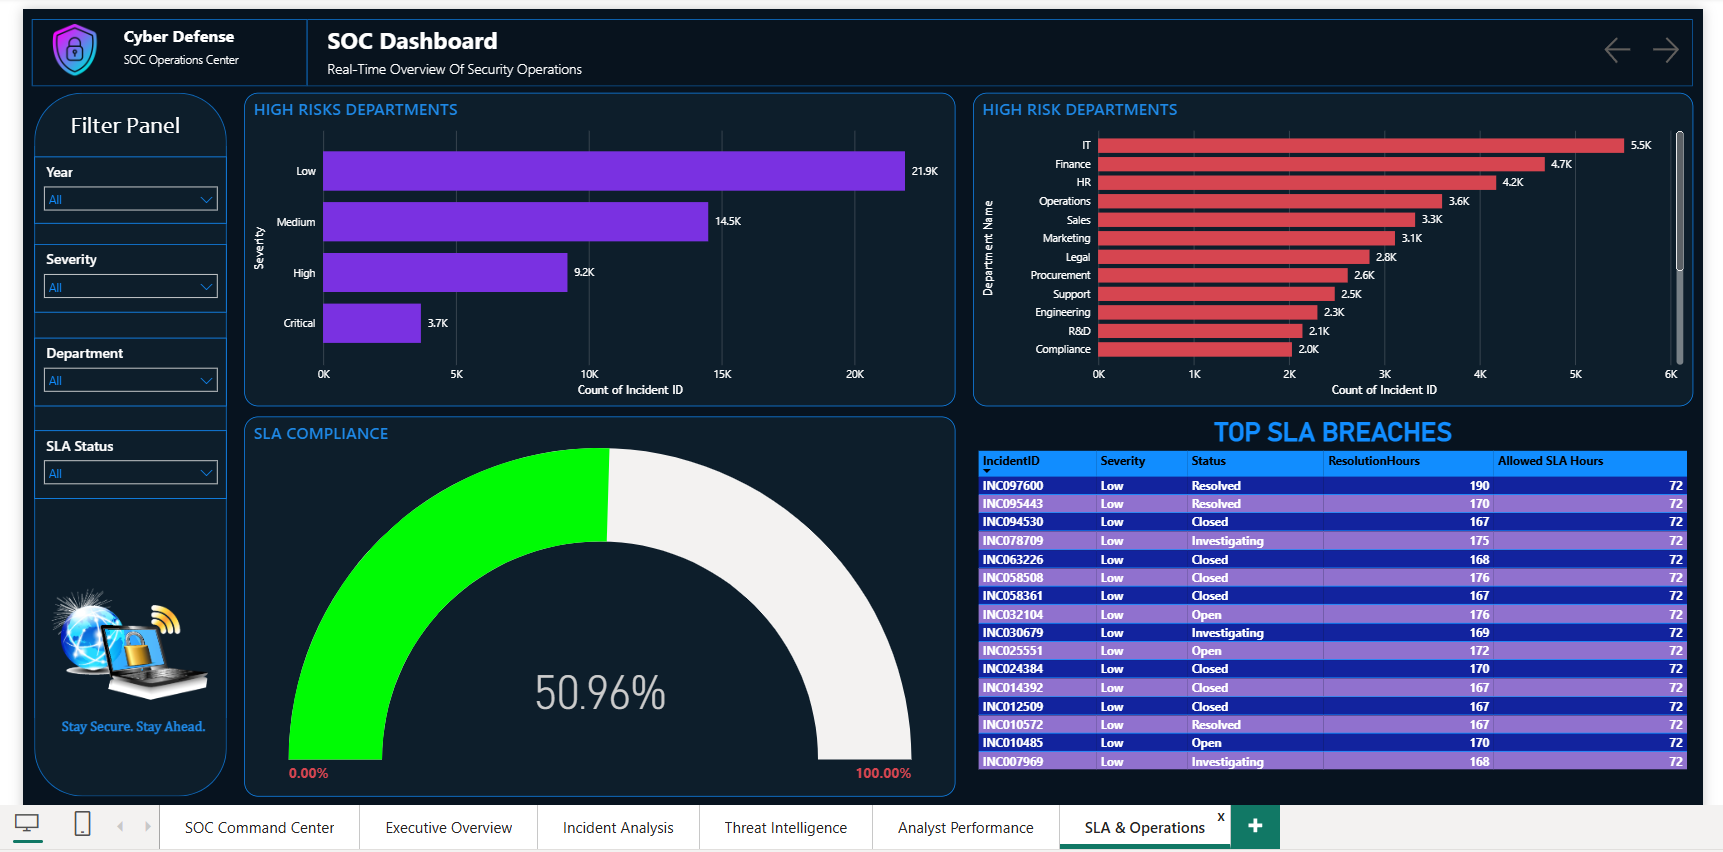

Layout of this report page (visuals, bound fields, positions):
{"tool":"powerbi","page":{"name":"SLA & Operations","canvas":[1920,1080],"ordinal":5},"visuals":[{"type":"group","id":"g1","title":"Group 8","box":[324.3,11.4,1584.3,77.1],"z":0},{"type":"group","id":"g2","title":"Group 7","box":[10,12,315,77],"z":1000},{"type":"shape","box":[10,12,315,77],"z":1000,"group":"g2"},{"type":"textbox","title":"Cyber Defense","box":[110,17,154,30],"z":2000,"group":"g2"},{"type":"actionButton","box":[1857.1,27.1,41.4,40],"z":2000},{"type":"actionButton","box":[1802.9,27.1,40,40],"z":3000},{"type":"textbox","title":"SOC Operations Center","box":[110,49,195,27],"z":3000,"group":"g2"},{"type":"image","box":[17,14,84,67],"z":4000,"group":"g2"},{"type":"shape","box":[12.9,95.7,220,804.3],"z":4000},{"type":"shape","box":[324.3,11.4,1584.3,77.1],"z":5000,"group":"g1"},{"type":"shape","title":"Filter Panel","box":[54.3,115.7,132.9,35.7],"z":5000},{"type":"textbox","title":"SOC Dashboard","box":[342.7,16.4,389.8,64.1],"z":6000,"group":"g1"},{"type":"image","box":[32.9,661.4,178.6,128.6],"z":6000},{"type":"textbox","title":"Real-Time Overview Of Security Operations","box":[342.7,56.5,632.4,24],"z":7000,"group":"g1"},{"type":"shape","title":"Stay Secure. Stay Ahead.","box":[44.3,811.4,187.1,32.9],"z":7000},{"type":"slicer","fields":{"Values":["Date.Year"]},"box":[12.9,168.6,220,77.1],"z":8000},{"type":"slicer","fields":{"Values":["Incident.Severity"]},"box":[12.9,268.6,220,78.6],"z":9000},{"type":"slicer","fields":{"Values":["Department.DepartmentName"]},"box":[12.9,375.7,220,78.6],"z":10000},{"type":"slicer","fields":{"Values":["Incident.SLA Status"]},"box":[12.9,481.4,220,78.6],"z":11000},{"type":"gauge","title":"SLA COMPLIANCE","fields":{"Y":["Analyst.SLA Compliance (%)"],"TargetValue":["Analyst.SLA Target"]},"box":[252.9,465.7,812.9,434.3],"z":12000},{"type":"barChart","title":"HIGH RISKS DEPARTMENTS","fields":{"Category":["Incident.Severity"],"Y":["CountNonNull(Incident.IncidentID)"]},"box":[252.9,95.7,812.9,358.6],"z":13000},{"type":"clusteredBarChart","title":"HIGH RISK DEPARTMENTS","fields":{"Category":["Department.DepartmentName"],"Y":["CountNonNull(Incident.IncidentID)"]},"box":[1085.7,95.7,822.9,358.6],"z":14000},{"type":"tableEx","title":"TOP SLA BREACHES","fields":{"Values":["Incident.IncidentID","Incident.Severity","Incident.Status","Incident.ResolutionHours","Incident.Allowed SLA Hours"]},"box":[1085.7,465.7,822.9,434.3],"z":15000}]}

Visuals, with their boxes on the page's 1920x1080 design canvas (x1, y1, x2, y2). These are canvas units, not pixel positions in the 1723x852 screenshot, which may show the page scaled, cropped or inside an application window:
"Group 8" group: (324,11,1909,88)
"Group 7" group: (10,12,325,89)
shape: (10,12,325,89)
"Cyber Defense" textbox: (110,17,264,47)
actionButton: (1857,27,1898,67)
actionButton: (1803,27,1843,67)
"SOC Operations Center" textbox: (110,49,305,76)
image: (17,14,101,81)
shape: (13,96,233,900)
shape: (324,11,1909,88)
"Filter Panel" shape: (54,116,187,151)
"SOC Dashboard" textbox: (343,16,732,80)
image: (33,661,212,790)
"Real-Time Overview Of Security Operations" textbox: (343,56,975,80)
"Stay Secure. Stay Ahead." shape: (44,811,231,844)
slicer - Date.Year: (13,169,233,246)
slicer - Incident.Severity: (13,269,233,347)
slicer - Department.DepartmentName: (13,376,233,454)
slicer - Incident.SLA Status: (13,481,233,560)
"SLA COMPLIANCE" gauge: (253,466,1066,900)
"HIGH RISKS DEPARTMENTS" barChart: (253,96,1066,454)
"HIGH RISK DEPARTMENTS" clusteredBarChart: (1086,96,1909,454)
"TOP SLA BREACHES" tableEx: (1086,466,1909,900)
